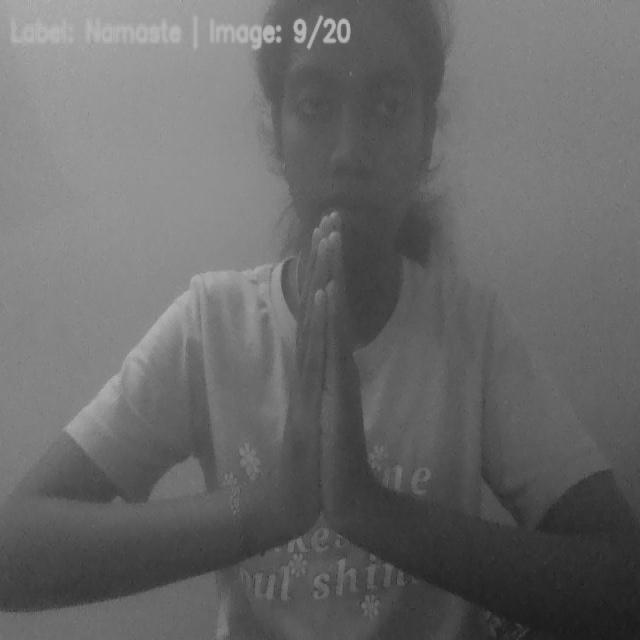Namaste: (238, 211, 414, 596)
